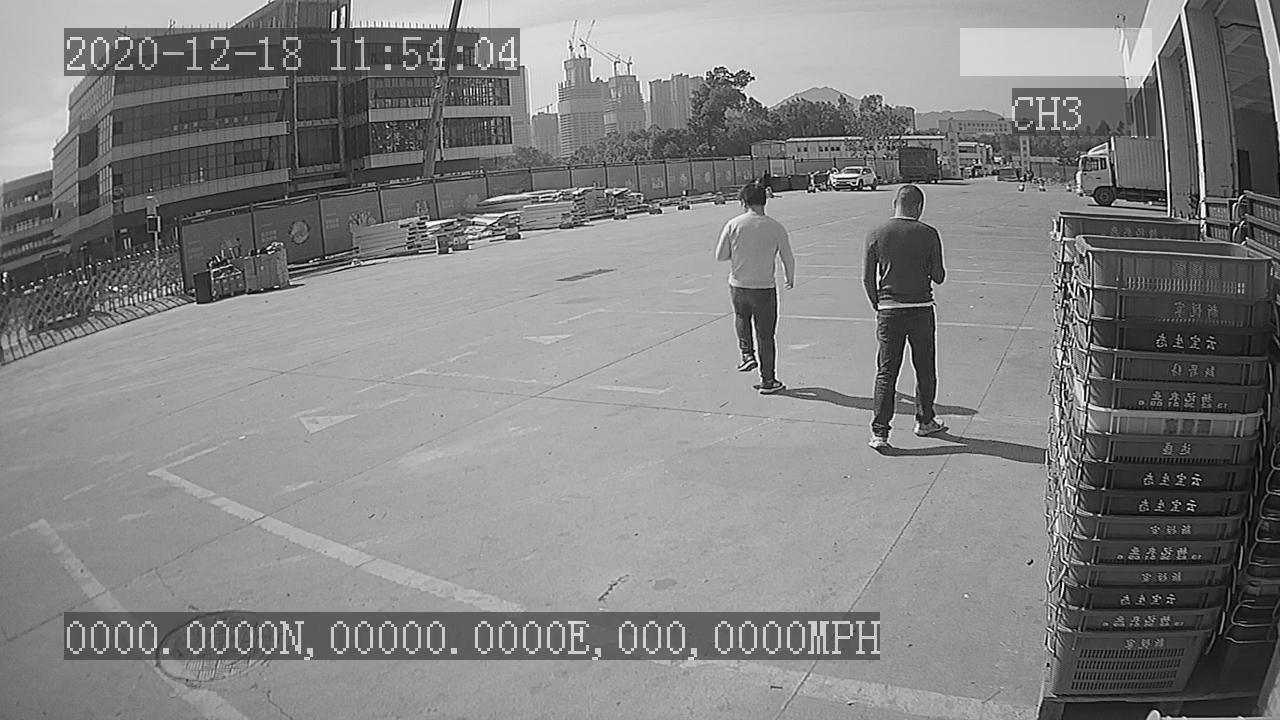person: (851, 181, 954, 454), (711, 172, 801, 401)
